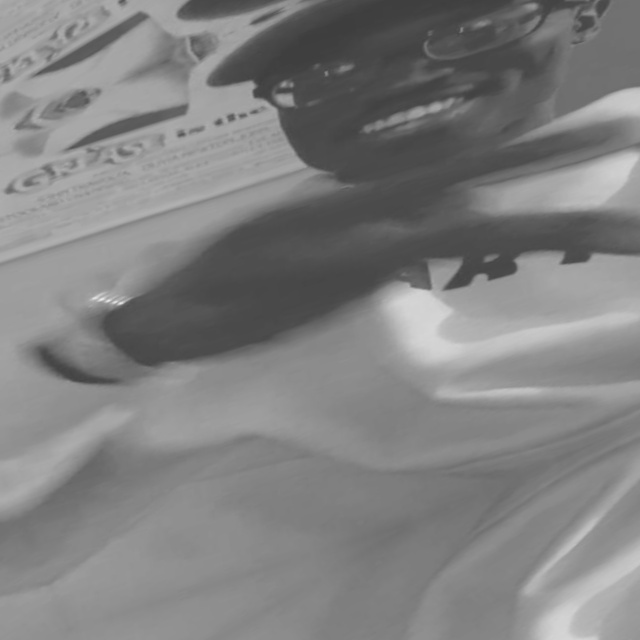Scissors: (0, 0, 538, 16)
